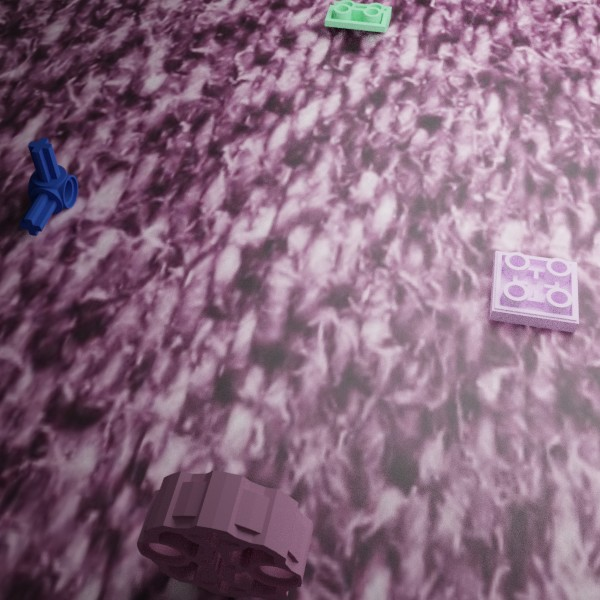lego: (136, 470, 313, 600), (489, 250, 578, 332), (19, 137, 78, 235), (324, 0, 391, 32)
